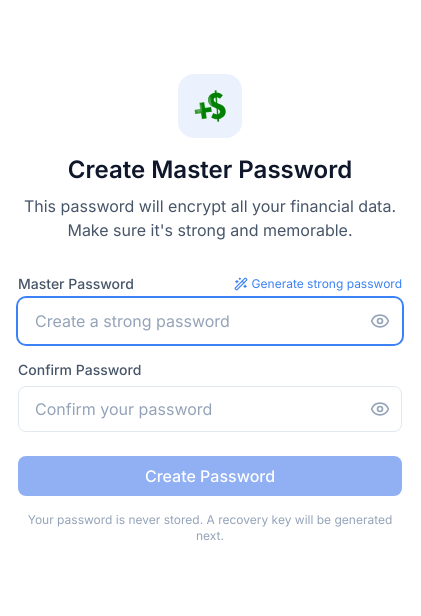
Test: SetupPage › shows API and thrown errors from create password path
The width and height of the screenshot is (421, 616).
Type "GoodEnough123!" into the password field labelled "Master Password" at (210, 321), box [18,298,402,344]
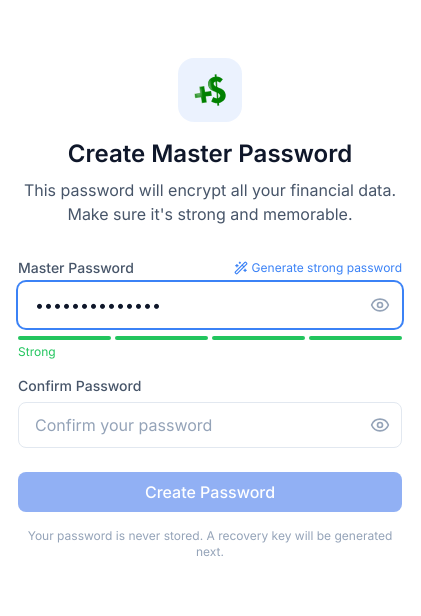
Type "GoodEnough123!" into the password field labelled "Confirm Password" at (210, 425), box [18,402,402,448]
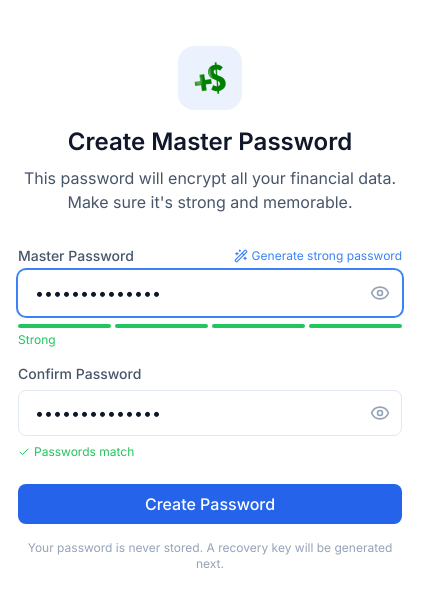
Click the button "Create Password" at (210, 504), box [18,484,402,524]
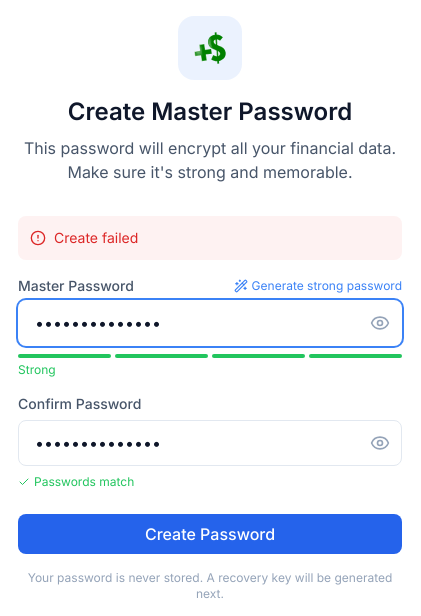
Check: the text "Create failed" is shown, box [18,216,402,260]
Click the button "Create Password" at (210, 534), box [18,514,402,554]
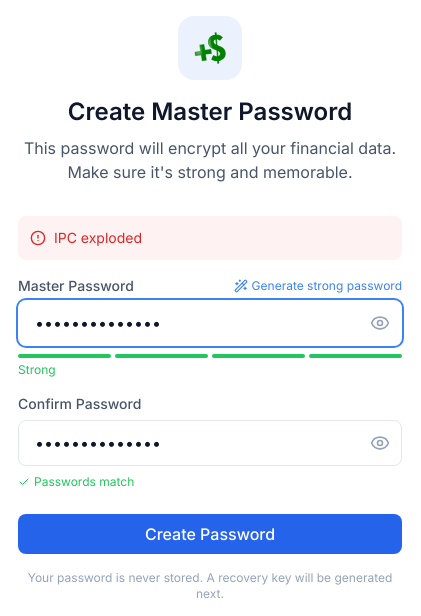
Check: the text "IPC exploded" is shown, box [18,216,402,260]
